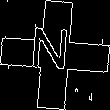N_S: (33, 28, 77, 82)
